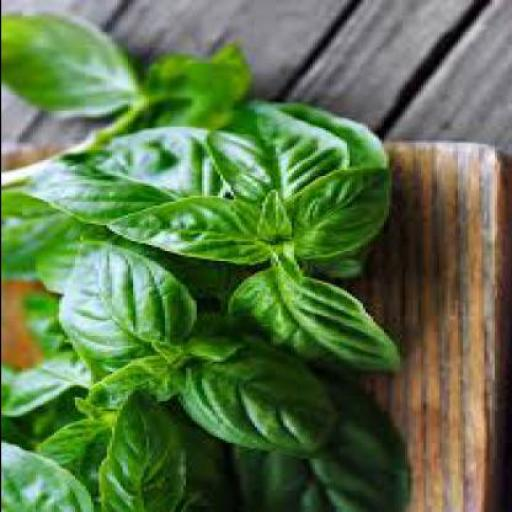biodegradable: (6, 121, 264, 261), (235, 97, 388, 277), (224, 370, 401, 510), (168, 330, 330, 456), (219, 264, 396, 376), (97, 380, 235, 510), (52, 239, 188, 362), (2, 10, 136, 118), (103, 193, 264, 267), (97, 322, 233, 408), (90, 225, 245, 299), (280, 162, 388, 261), (30, 384, 113, 506), (1, 187, 106, 279), (140, 46, 246, 130), (2, 438, 92, 511), (1, 344, 90, 414), (1, 382, 90, 449), (248, 190, 303, 283), (201, 132, 272, 202), (18, 286, 72, 356), (222, 259, 232, 265)
